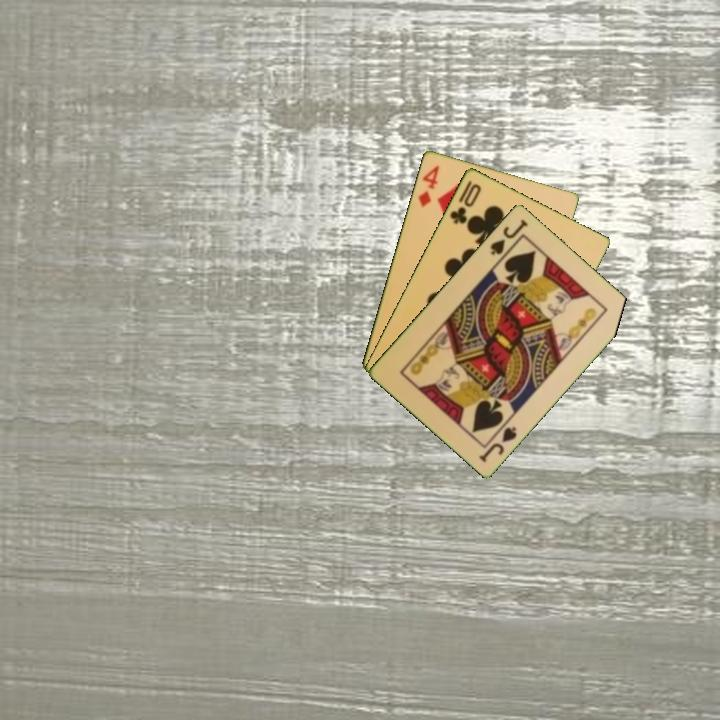10c: (446, 177, 484, 227)
4d: (414, 162, 442, 210)
Js: (486, 215, 531, 258), (475, 422, 520, 465)
